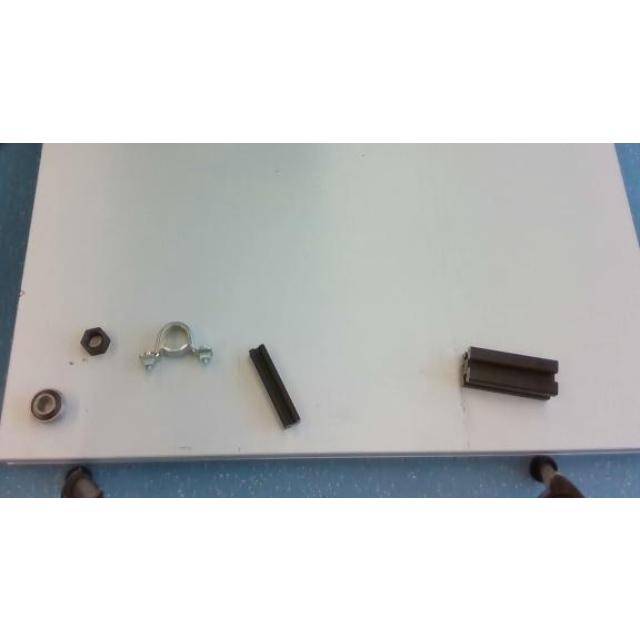Bearing2: (30, 388, 62, 420)
F20_20_B: (249, 344, 299, 426)
Housing: (140, 321, 212, 371)
M20: (80, 326, 112, 354)
S40_40_B: (462, 346, 558, 398)
